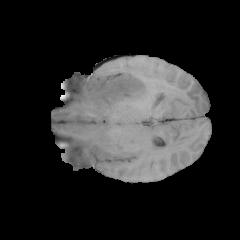glioma: (88, 74, 162, 106)
